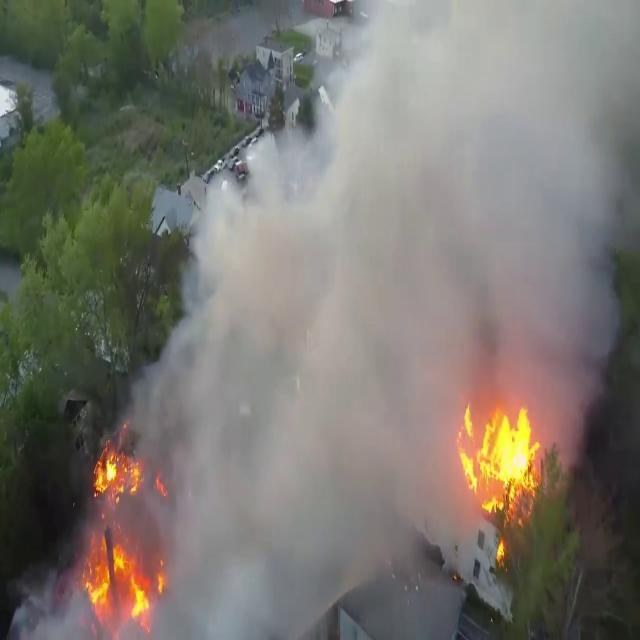Fire: (79, 442, 166, 629), (456, 391, 541, 522)
Smoke: (132, 3, 630, 632)
